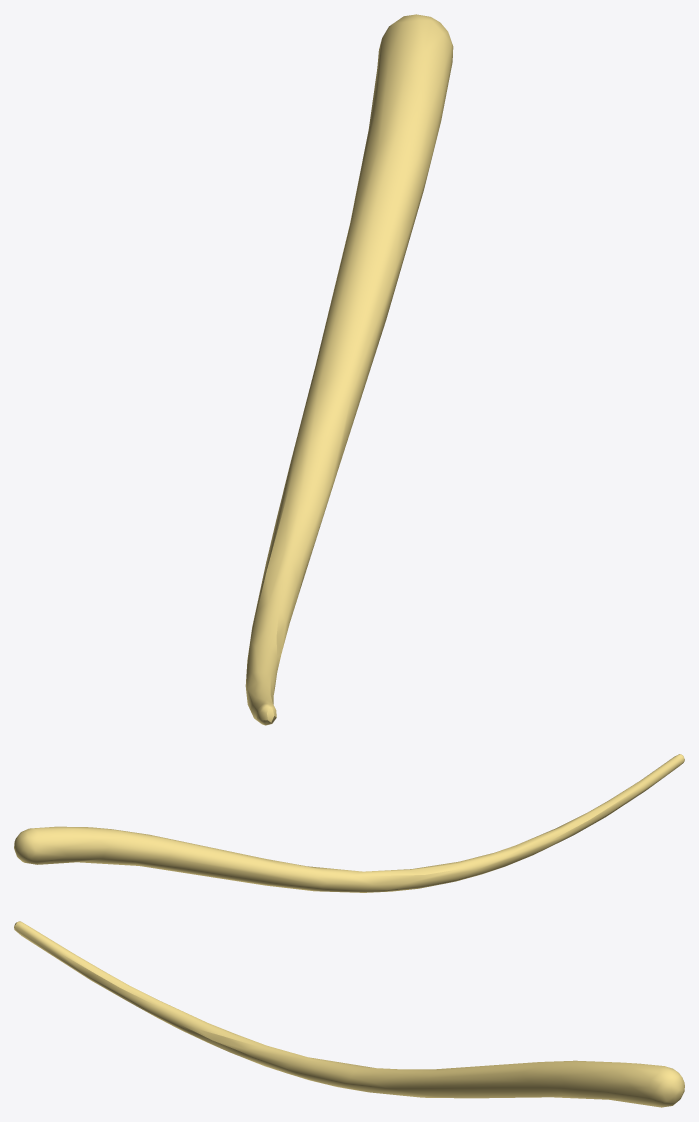
File: fma52993_fj3945.glb
The picture shows the model from 3 angles, top to bottom: view 1: azimuth 30°, elevation 25°; view 2: azimuth 150°, elevation 25°; view 3: azimuth 270°, elevation 25°; orthographic projection. The views are drawn at different scales.
Visible parts, largest first — view 1: FMA52993_FJ3945; view 2: FMA52993_FJ3945; view 3: FMA52993_FJ3945.
Boxes of the visible parts, x1,y1,x2,y2 form: FMA52993_FJ3945: [245, 14, 453, 725]; FMA52993_FJ3945: [14, 754, 684, 892]; FMA52993_FJ3945: [14, 921, 684, 1107].
Bounding box in the file's own units: 0.0116 × 0.00347 × 0.0157.
